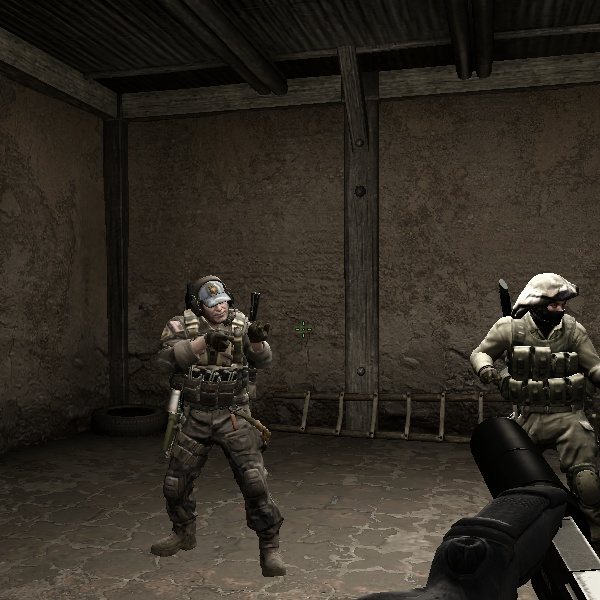ct_body: (141, 269, 298, 561), (461, 264, 600, 501)
ct_head: (510, 263, 583, 345), (188, 277, 241, 330)
